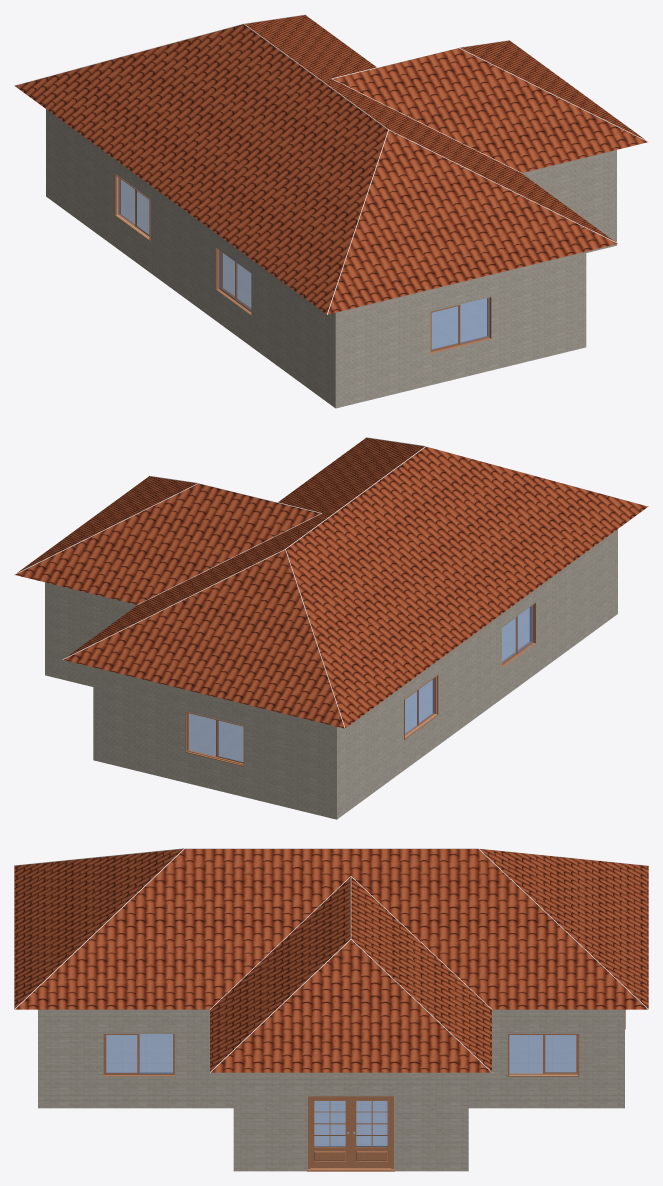
File: telhado35N.glb
3 renders of one model, top to bottom at view 1: azimuth 30°, elevation 25°; view 2: azimuth 150°, elevation 25°; view 3: azimuth 270°, elevation 25°, orthographic. The views are drawn at different scales.
Visible parts, largest first — view 1: root; view 2: root; view 3: root.
Boxes of the visible parts, bbox=[...] form: root: bbox=[15, 15, 647, 408]; root: bbox=[15, 438, 647, 819]; root: bbox=[14, 849, 648, 1171].
Size of the model in its own units: 12.52 by 5.58 by 16.22.
Materials: 18 (6 with a texture image).
